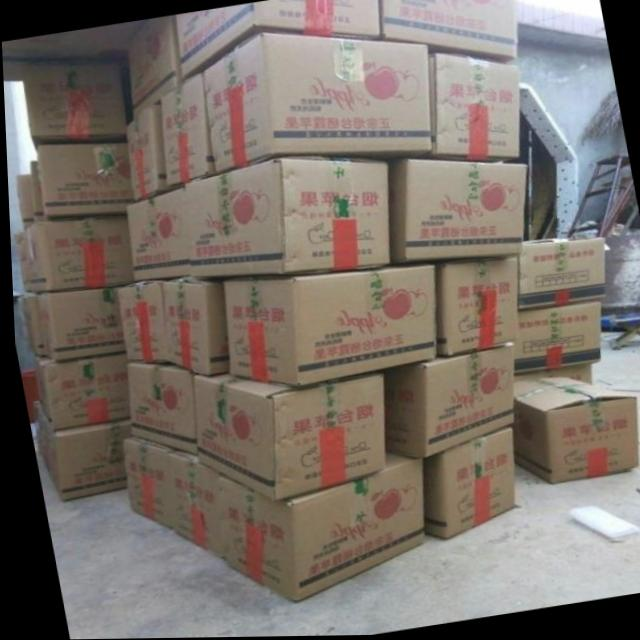box: (200, 34, 430, 175), (216, 458, 425, 604), (221, 264, 434, 390), (183, 159, 389, 279), (190, 375, 383, 503), (175, 0, 381, 83), (380, 347, 511, 460), (387, 160, 526, 266), (509, 378, 635, 486), (417, 430, 514, 543), (428, 54, 519, 165), (31, 406, 125, 503), (382, 0, 517, 64), (23, 63, 125, 145), (433, 260, 519, 357), (19, 218, 130, 291), (36, 142, 130, 219), (33, 354, 125, 431), (34, 288, 121, 362), (511, 302, 600, 373), (123, 363, 191, 455), (517, 239, 604, 310), (164, 451, 219, 562), (159, 73, 212, 188), (161, 281, 223, 378), (123, 188, 186, 282), (127, 16, 182, 120), (120, 438, 170, 532), (122, 104, 162, 202), (115, 280, 162, 362), (510, 366, 589, 387)
